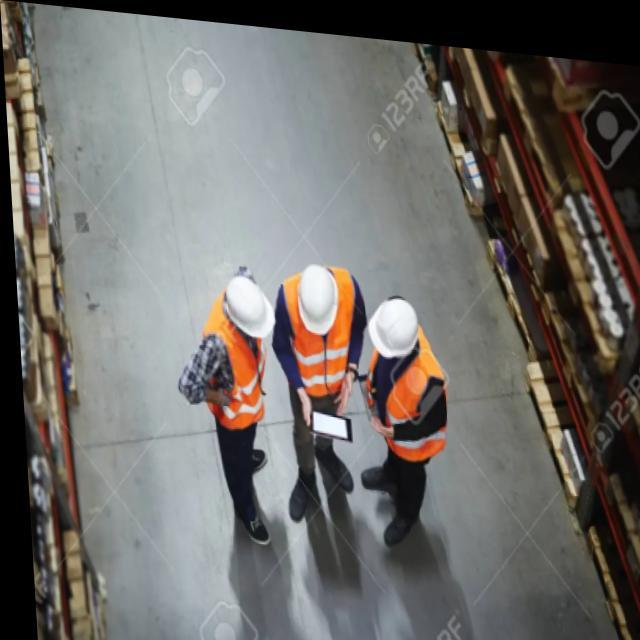hard_hat: (220, 271, 278, 353), (365, 293, 422, 368), (296, 261, 343, 340)
shoes: (282, 437, 357, 529), (358, 457, 424, 552), (225, 441, 274, 551)
vest: (361, 317, 453, 467), (281, 261, 366, 406), (195, 278, 272, 435)
